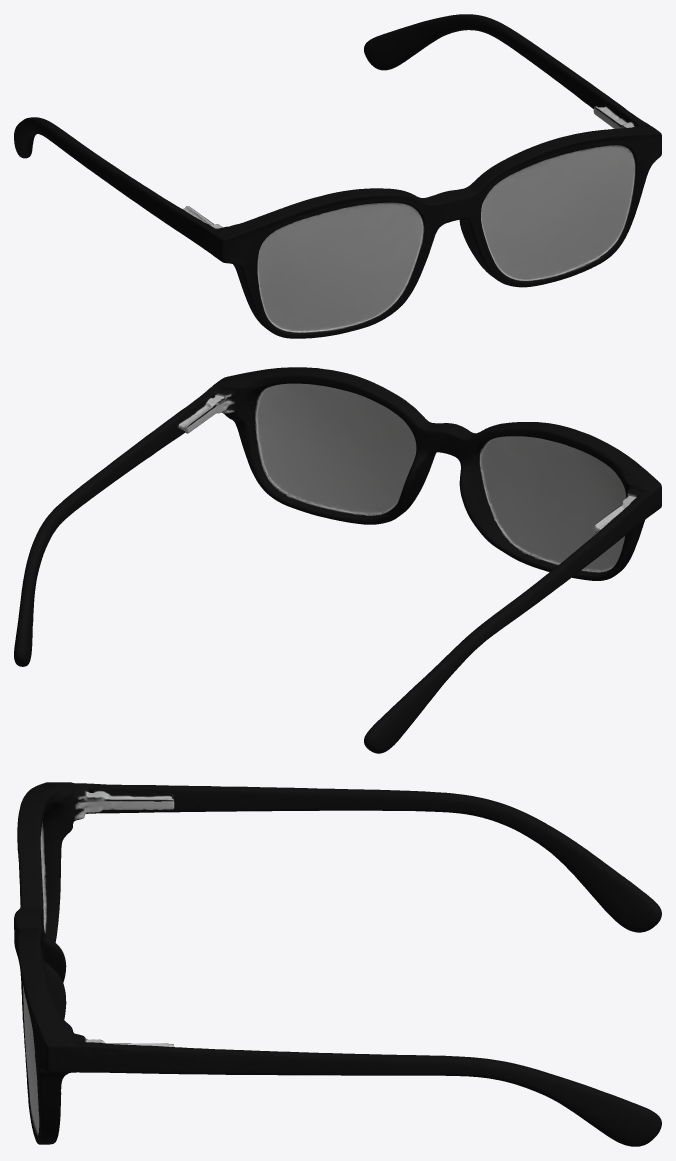
The model's file is oculossemolo.glb.
3 renders of one model, top to bottom at view 1: azimuth 30°, elevation 25°; view 2: azimuth 150°, elevation 25°; view 3: azimuth 270°, elevation 25°, orthographic. The views are drawn at different scales.
Size of the model in its own units: 1.88 by 0.5561 by 1.9.
1 material, 1 textured.
